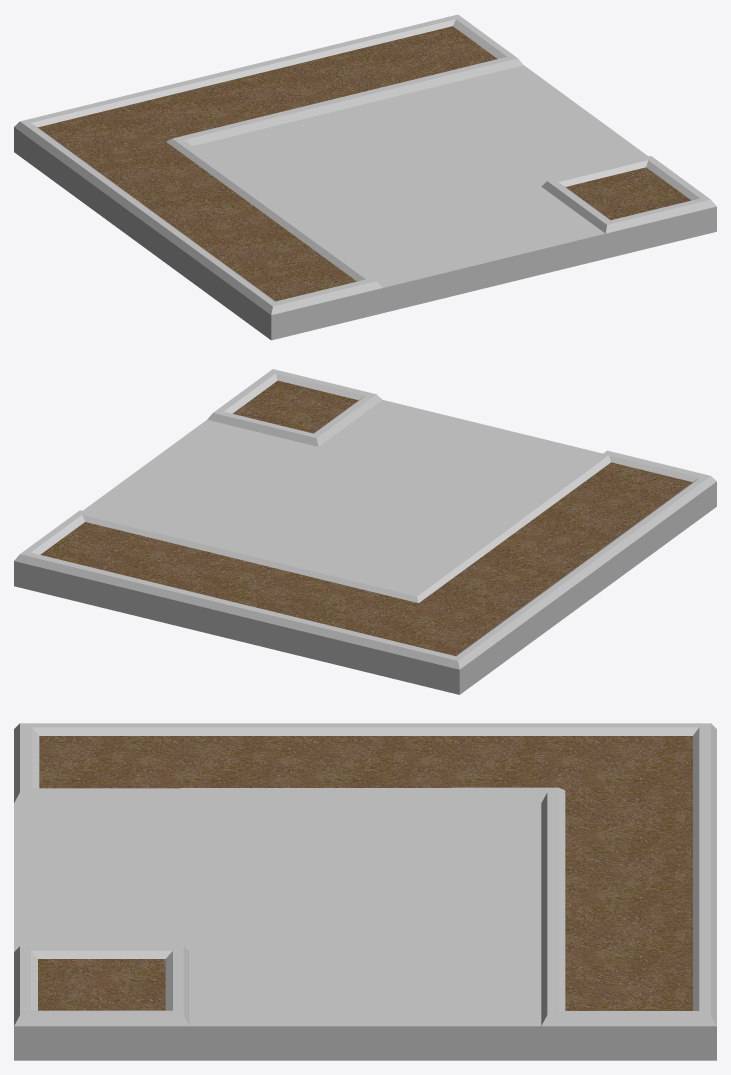
The model's file is Path_C.fbx.
The picture shows the model from 3 angles, top to bottom: view 1: azimuth 30°, elevation 25°; view 2: azimuth 150°, elevation 25°; view 3: azimuth 270°, elevation 25°; orthographic projection. The views are drawn at different scales.
Parts seen in each view (by area): view 1: Path_C; view 2: Path_C; view 3: Path_C.
Boxes of the visible parts, x1=… form: Path_C: x1=14, y1=14, x2=716, y2=340; Path_C: x1=14, y1=369, x2=716, y2=694; Path_C: x1=14, y1=723, x2=716, y2=1060.
Size of the model in its own units: 1000 by 67.41 by 1000.
